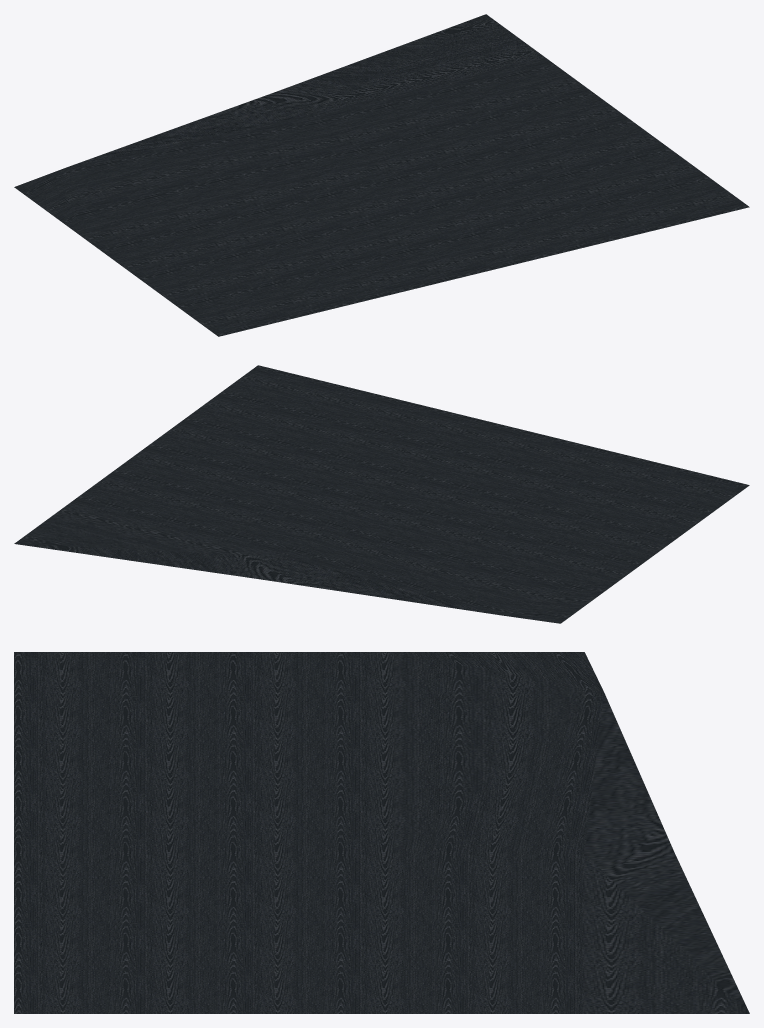
File: GYM_Ceiling_11.fbx
3 renders of one model, top to bottom at view 1: azimuth 30°, elevation 25°; view 2: azimuth 150°, elevation 25°; view 3: azimuth 270°, elevation 25°, orthographic. The views are drawn at different scales.
Parts seen in each view (by area): view 1: GYM_Ceiling_Panel_11; view 2: GYM_Ceiling_Panel_11; view 3: GYM_Ceiling_Panel_11.
Boxes of the visible parts, x1=… form: GYM_Ceiling_Panel_11: x1=14, y1=14, x2=749, y2=336; GYM_Ceiling_Panel_11: x1=14, y1=365, x2=749, y2=623; GYM_Ceiling_Panel_11: x1=14, y1=652, x2=749, y2=1013.
Bounding box in the file's own units: 4.5 × 6.66e-16 × 3.87.
1 material, 1 textured.
